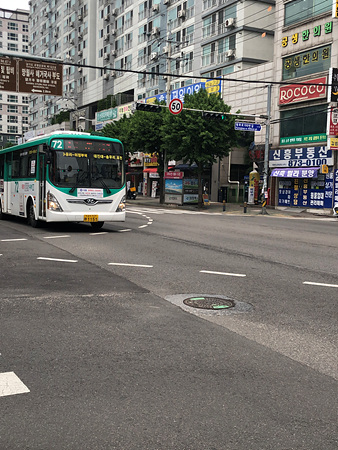bnum: (51, 138, 63, 148)
